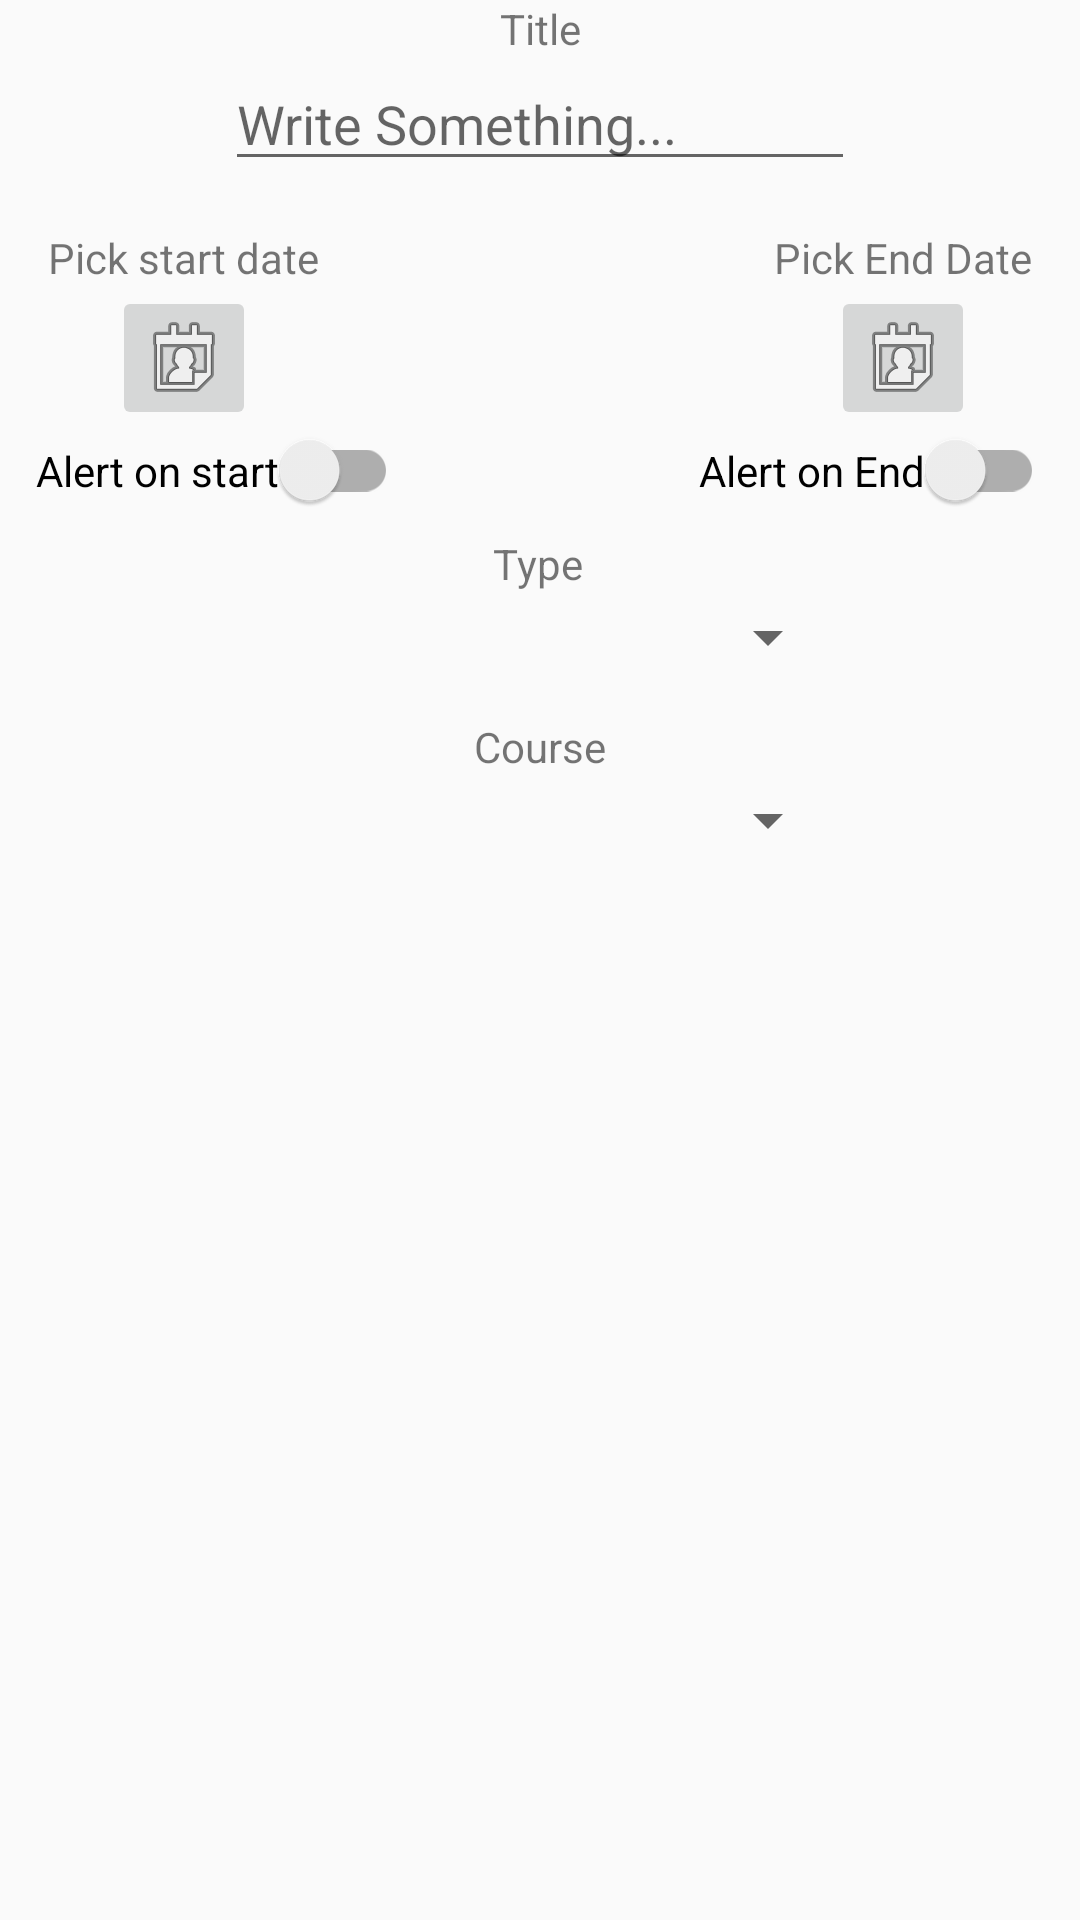

Icons on this 1080 × 1920 Android screen, each with the point to tap as (x,y):
calendar: (184,358), (903,358)
